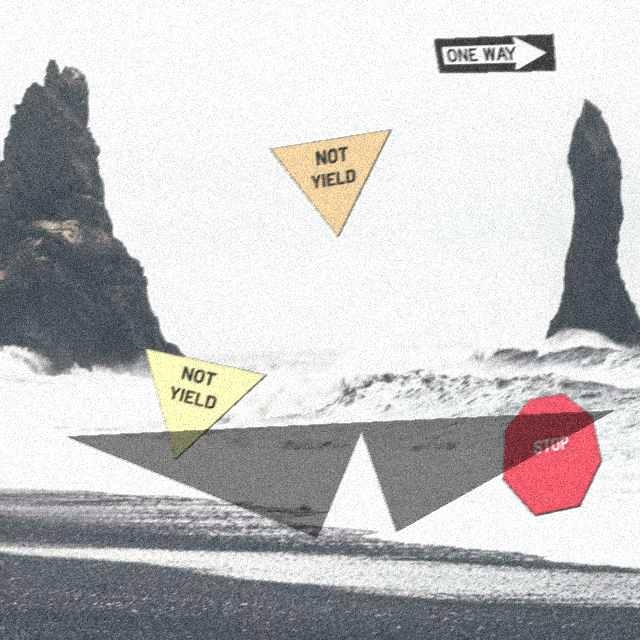NOT_YIELD: (143, 348, 266, 461), (268, 129, 391, 238)
ONE_WAY_ right: (432, 34, 555, 74)
STOP: (501, 394, 601, 517)
